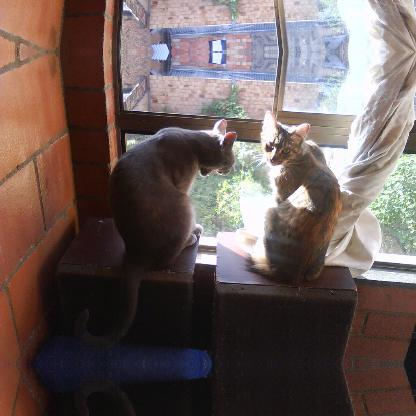Cat: (76, 116, 235, 352), (245, 110, 345, 286)
